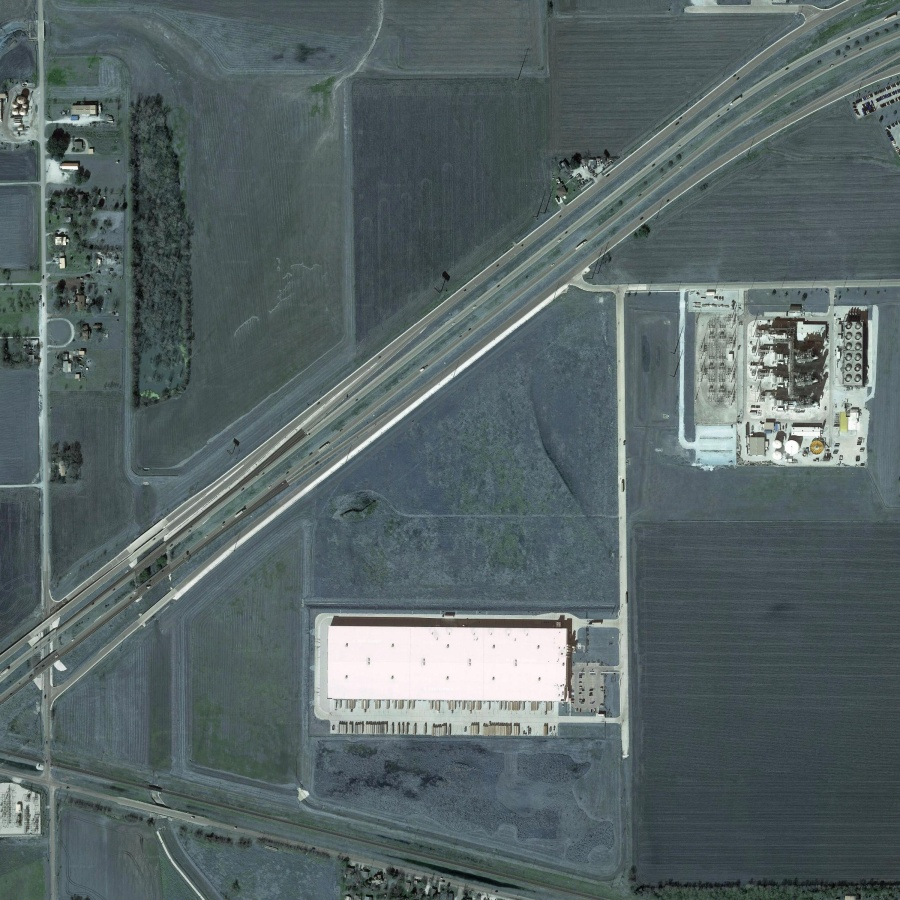PowerPlant: (681, 284, 875, 473)
